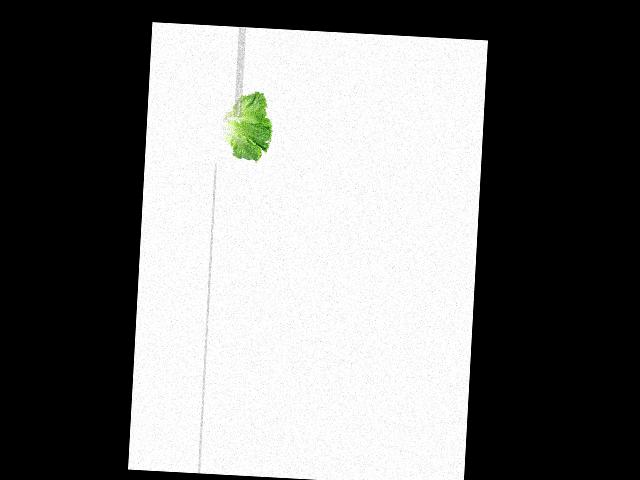lettuce: (219, 92, 273, 162)
